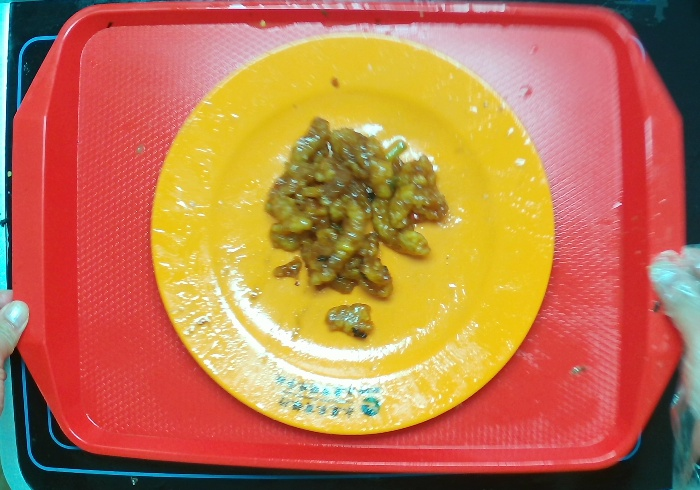YKMZ-Ju_Se_Mian_Pan: (149, 32, 558, 436)
